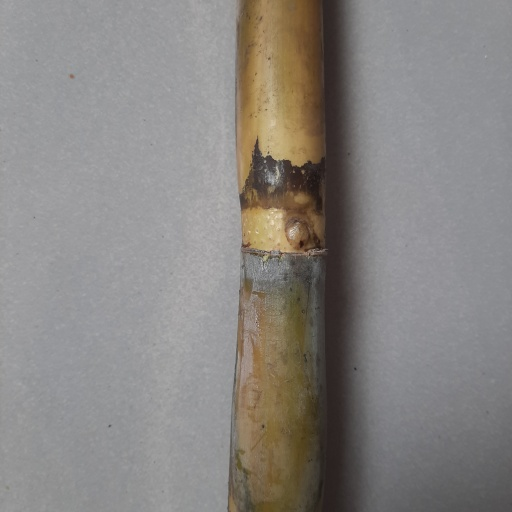Bud: (284, 219, 312, 252)
